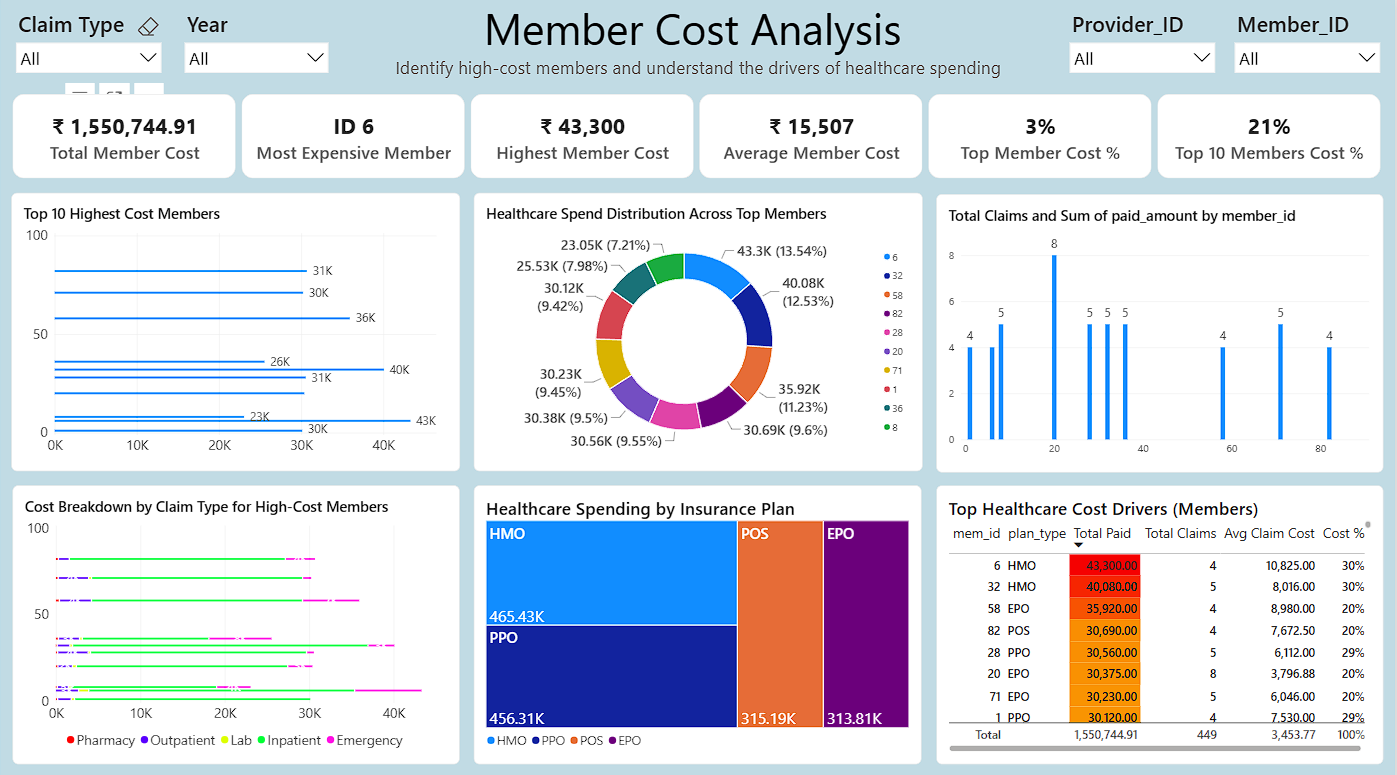

The page's visual inventory and layout, read from the dashboard file:
{"tool":"powerbi","page":{"name":"Member Cost Analysis","canvas":[1920,1080],"ordinal":3},"visuals":[{"type":"textbox","box":[535.8,0,848.3,110.4],"z":0},{"type":"slicer","fields":{"Values":["claims.claim_type"]},"box":[17.3,13,209.9,100],"z":1000},{"type":"slicer","fields":{"Values":["claims.claim_date.Variation.Date Hierarchy.Year"]},"box":[248.9,13,207.8,99.6],"z":2000},{"type":"slicer","fields":{"Values":["claims.provider_id"]},"box":[1467.3,13,209.9,99.6],"z":3000},{"type":"slicer","fields":{"Values":["claims.member_id"]},"box":[1694.5,13,209.9,99.6],"z":4000},{"type":"cardVisual","fields":{"Data":["claims.Total Member Cost","claims.Highest Cost Member","claims.Highest Member Cost","claims.Average Member Cost","claims.Top Member Cost %","claims.High Cost Members"]},"box":[17.3,129.8,1887.1,116.9],"z":5000},{"type":"donutChart","title":"Healthcare Spend Distribution Across Top Members","fields":{"Category":["claims.member_id"],"Y":["Sum(claims.paid_amount)"]},"box":[652.2,266.9,617.4,383],"z":6000},{"type":"barChart","title":"Cost Breakdown by Claim Type for High-Cost Members","fields":{"Category":["members.member_id"],"Series":["vw_PaidRatio.claim_type"],"Y":["Sum(claims.paid_amount)"]},"box":[17.7,668.5,615.6,383.9],"z":7000},{"type":"columnChart","fields":{"Category":["claims.member_id"],"Y":["claims.Total Claims"]},"box":[1287.9,268,615.2,382.8],"z":8000},{"type":"tableEx","title":"Top Healthcare Cost Drivers (Members)","fields":{"Values":["claims.member_id","members.plan_type","claims.Total Paid","claims.Total Claims","claims.Avg Claim Cost","claims.Cost %"]},"box":[1288.5,668.5,615.6,383.9],"z":9000},{"type":"treemap","title":"Healthcare Spending by Insurance Plan","fields":{"Group":["members.plan_type"],"Values":["claims.Total Paid"]},"box":[651,669,616,384],"z":10000},{"type":"clusteredBarChart","title":"Top 10 Highest Cost Members","fields":{"Category":["claims.member_id"],"Y":["Sum(claims.paid_amount)"]},"box":[16.2,266.9,617.4,383],"z":11000}]}

Visuals, with their boxes in screenshot pixels (x1, y1, x2, y2), scaled from the page's 1920x1080 canvas onto the 1397x775 screenshot:
textbox: rect(390, 0, 1007, 79)
slicer - claims.claim_type: rect(13, 9, 165, 81)
slicer - claims.claim_date.Variation.Date Hierarchy.Year: rect(181, 9, 332, 81)
slicer - claims.provider_id: rect(1068, 9, 1220, 81)
slicer - claims.member_id: rect(1233, 9, 1386, 81)
cardVisual - claims.Total Member Cost x claims.Highest Cost Member: rect(13, 93, 1386, 177)
"Healthcare Spend Distribution Across Top Members" donutChart: rect(475, 192, 924, 466)
"Cost Breakdown by Claim Type for High-Cost Members" barChart: rect(13, 480, 461, 755)
columnChart - claims.member_id x claims.Total Claims: rect(937, 192, 1385, 467)
"Top Healthcare Cost Drivers (Members)" tableEx: rect(938, 480, 1385, 755)
"Healthcare Spending by Insurance Plan" treemap: rect(474, 480, 922, 756)
"Top 10 Highest Cost Members" clusteredBarChart: rect(12, 192, 461, 466)
